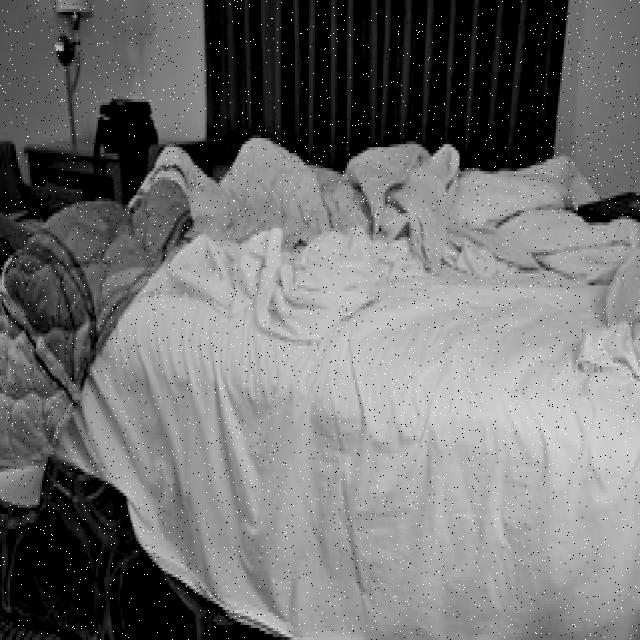bed: (2, 135, 638, 640)
